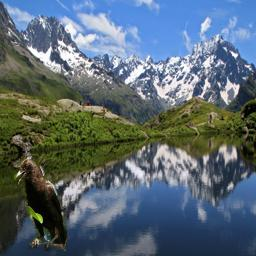Crow: (14, 156, 67, 251)
